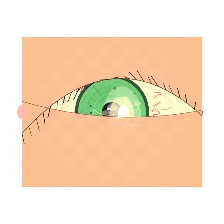corneal_ulcer: (92, 91, 152, 139)
